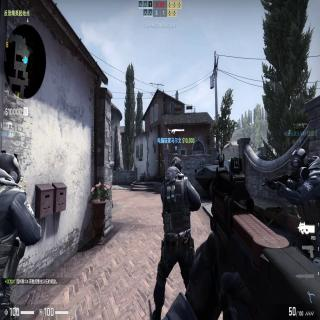CT-Body: (156, 157, 199, 252)
CT-Head: (292, 144, 308, 174), (170, 156, 183, 172)
